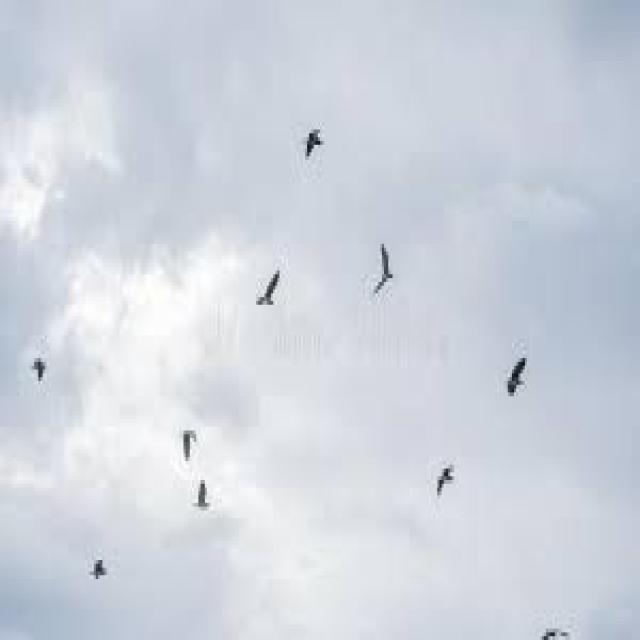bird: (356, 215, 406, 334), (248, 236, 306, 332), (424, 442, 468, 564), (10, 332, 72, 396), (164, 398, 216, 463), (504, 335, 536, 427), (186, 464, 224, 526), (79, 547, 129, 593), (296, 106, 333, 168)
